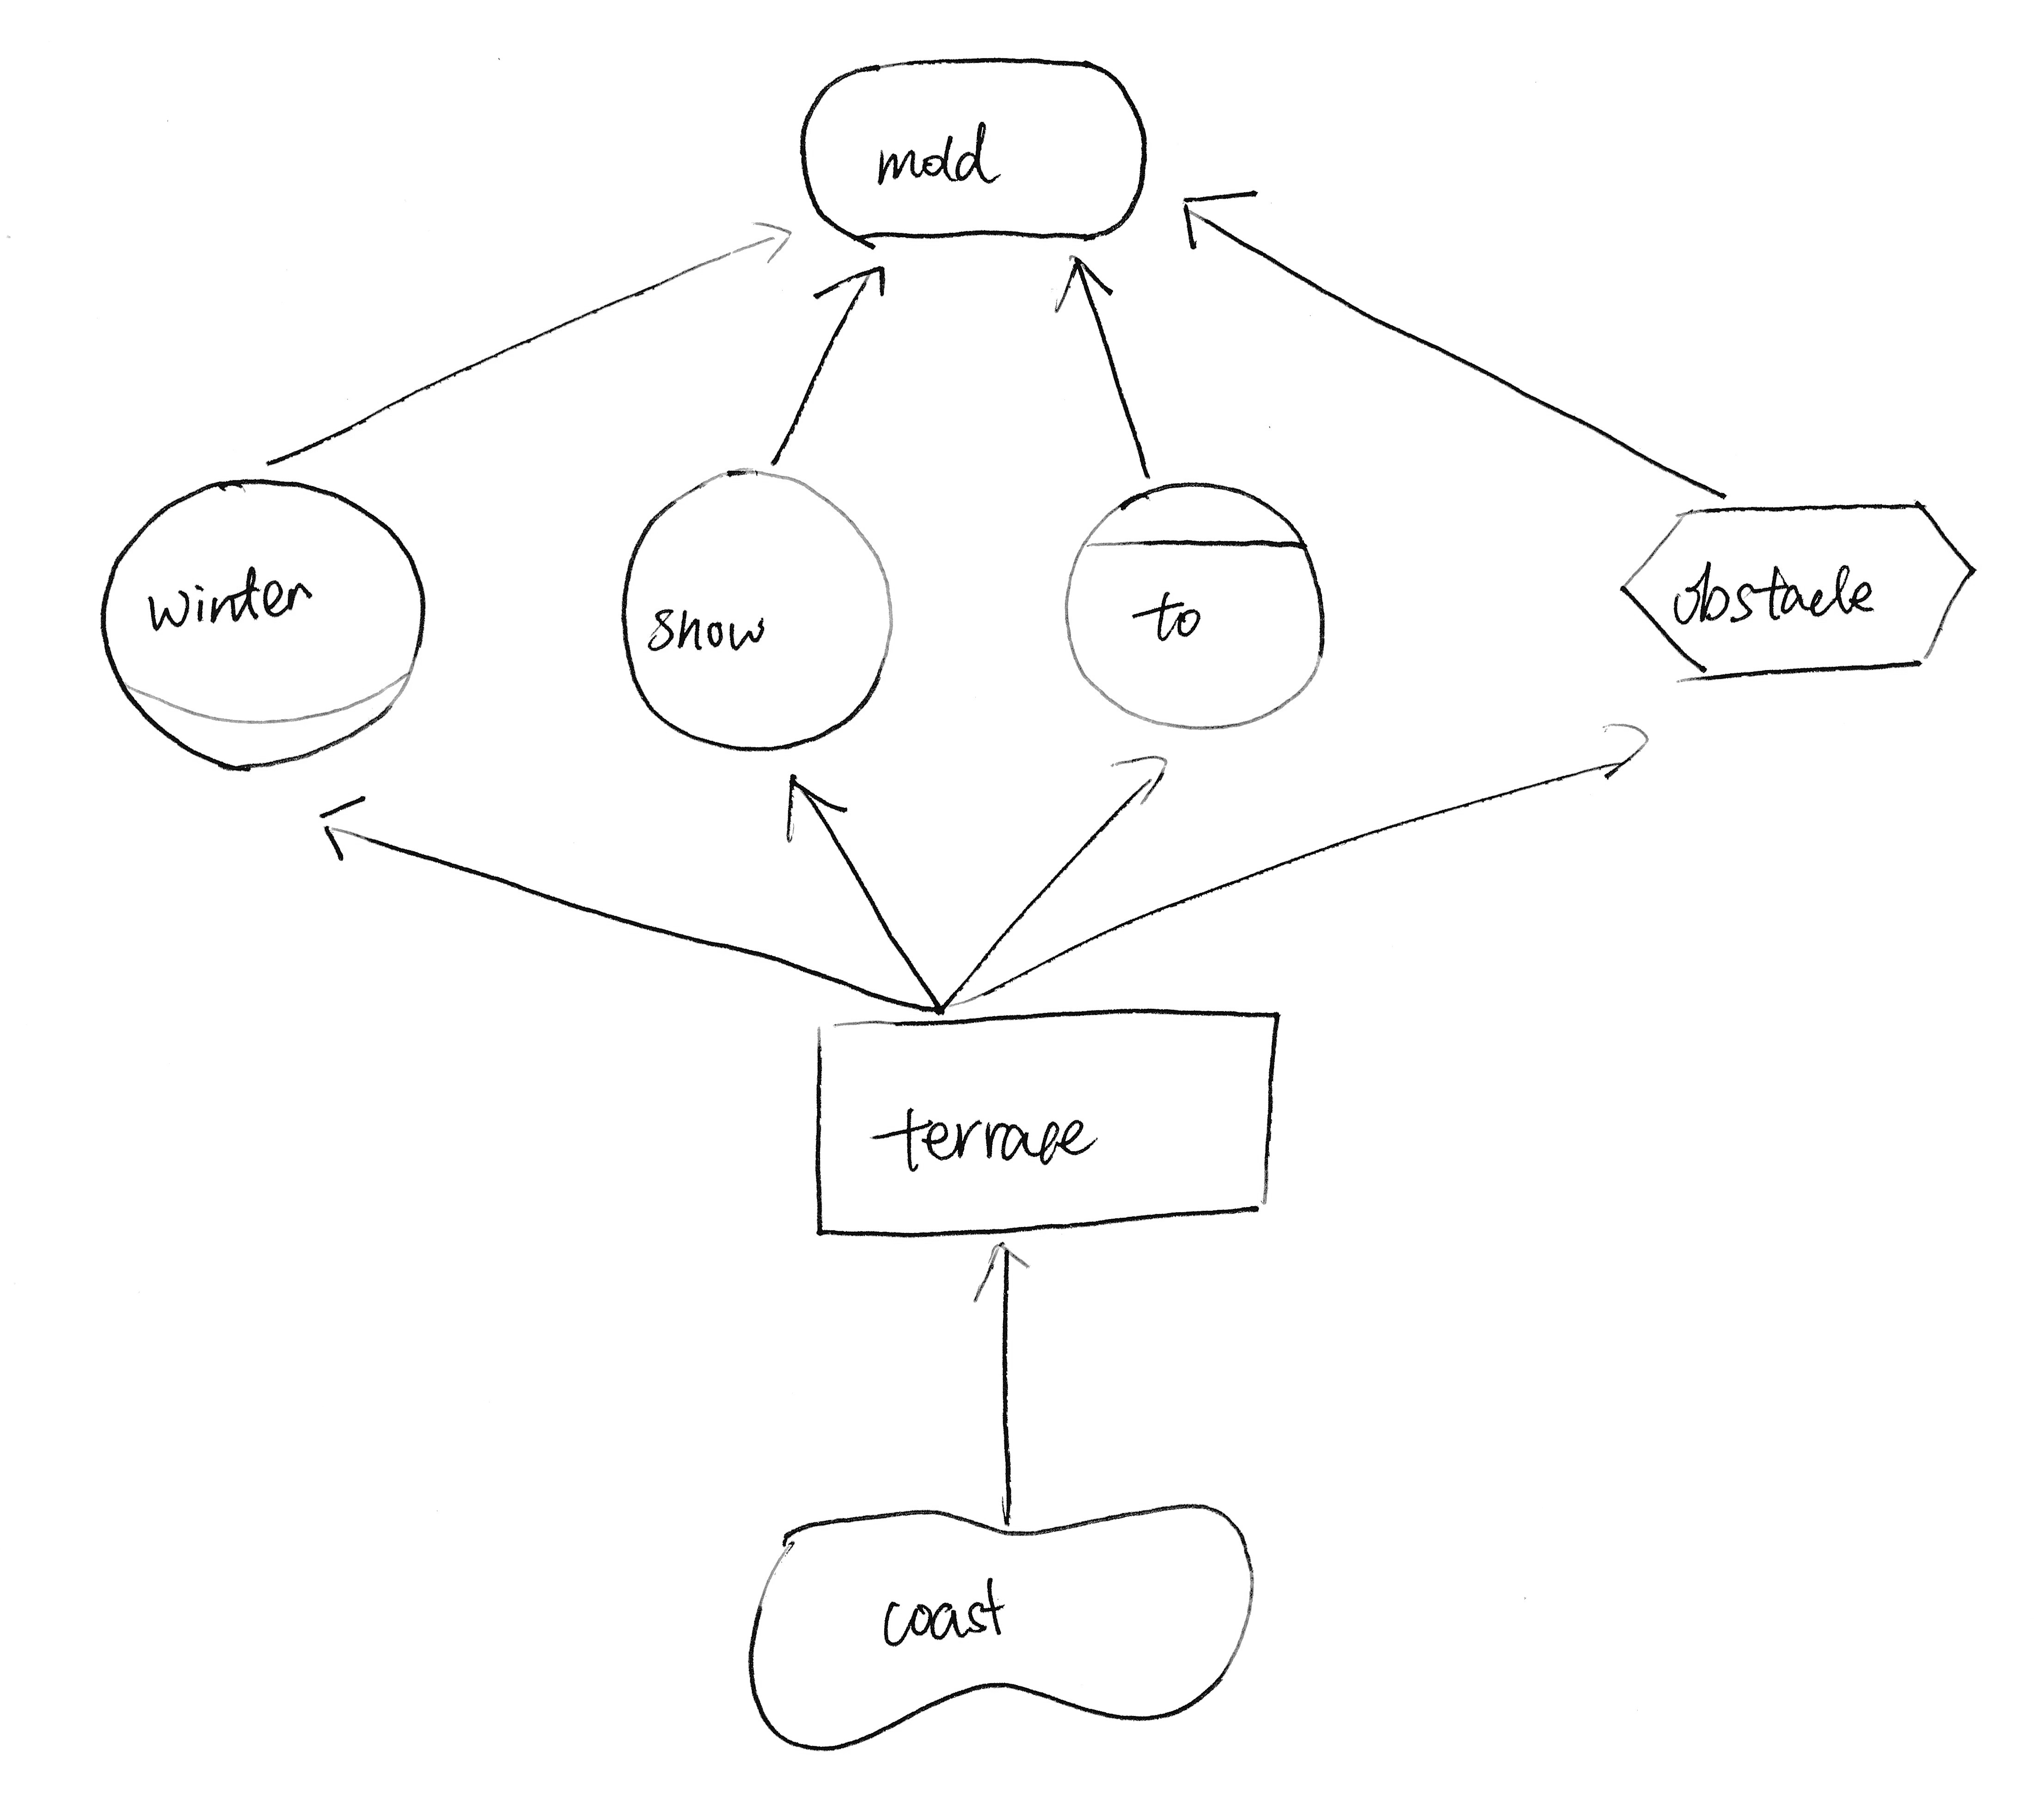actor: (604, 450, 913, 770)
agent: (1039, 466, 1341, 738)
arrow: (1171, 176, 1274, 272), (770, 761, 862, 862), (799, 244, 909, 325), (302, 775, 381, 883), (955, 1230, 1056, 1314), (1040, 246, 1124, 330), (1574, 703, 1656, 789), (738, 197, 808, 284), (1108, 749, 1178, 820)
goal: (787, 31, 1161, 265)
quality: (730, 1494, 1267, 1766)
resource: (794, 995, 1297, 1250)
role: (86, 468, 445, 787)
task: (1611, 487, 1997, 705)
